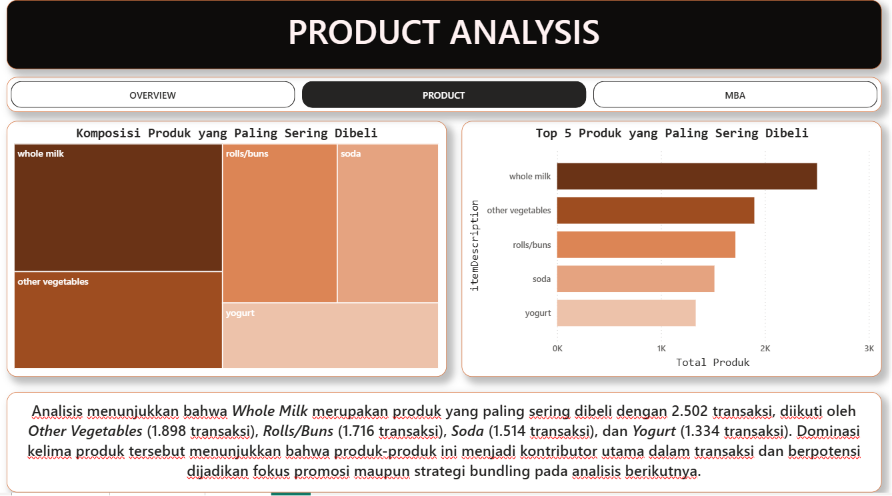

The page's visual inventory and layout, read from the dashboard file:
{"tool":"powerbi","page":{"name":"PRODUCT","canvas":[1280,720],"ordinal":1},"visuals":[{"type":"textbox","box":[11.7,0,1250,98.3],"z":0},{"type":"clusteredBarChart","title":"Top 5 Produk yang Paling Sering Dibeli","fields":{"Category":["Sheet1.itemDescription"],"Y":["CountNonNull(Sheet1.itemDescription)"]},"box":[661.7,173.3,600,365],"z":1000},{"type":"treemap","title":"Komposisi Produk yang Paling Sering Dibeli","fields":{"Group":["Sheet1.itemDescription"],"Values":["CountNonNull(Sheet1.itemDescription)"]},"box":[11.7,173.3,628.3,365],"z":2000},{"type":"textbox","box":[11.7,560,1250,143.3],"z":3000},{"type":"pageNavigator","box":[11.7,110,1250,50],"z":4000}]}

Visuals, with their boxes in screenshot pixels (x1, y1, x2, y2), scaled from the page's 1280x720 canvas onto the 892x496 screenshot:
textbox: 8, 0, 879, 68
"Top 5 Produk yang Paling Sering Dibeli" clusteredBarChart: 461, 119, 879, 371
"Komposisi Produk yang Paling Sering Dibeli" treemap: 8, 119, 446, 371
textbox: 8, 386, 879, 484
pageNavigator: 8, 76, 879, 110
